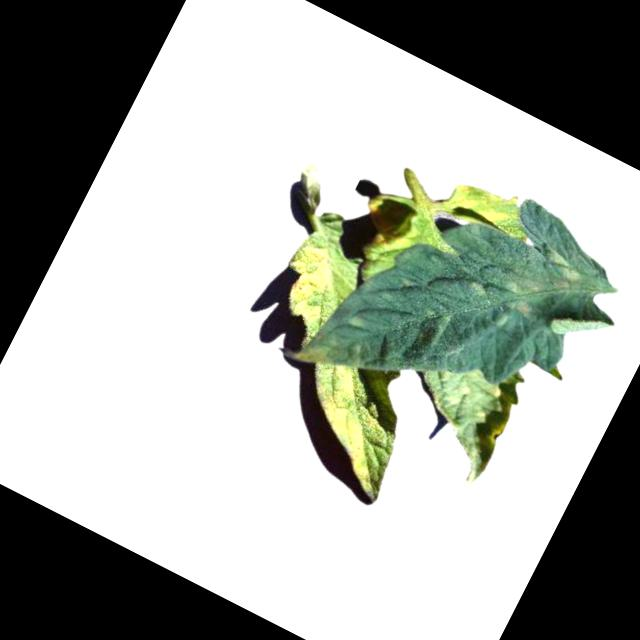Leaf_Mold: (273, 354, 422, 501), (270, 234, 351, 326), (441, 171, 527, 243), (493, 265, 553, 324), (352, 199, 413, 257), (530, 244, 588, 297)
